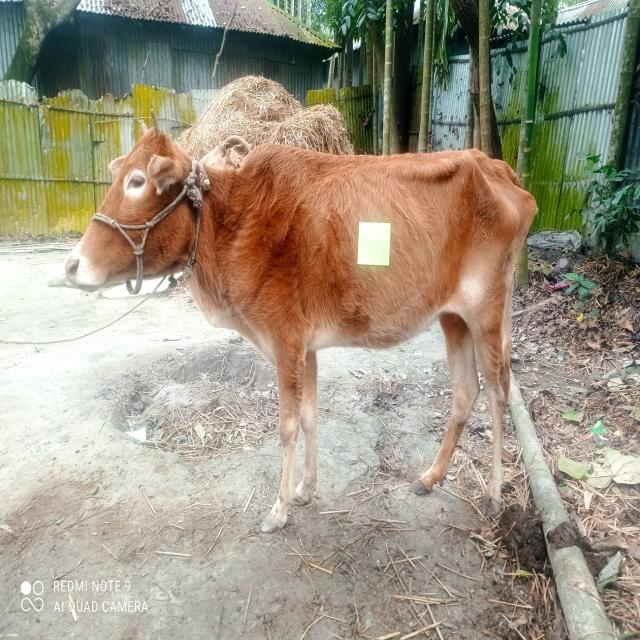badan_sapi: (268, 149, 510, 369)
sapi: (61, 117, 542, 536)
